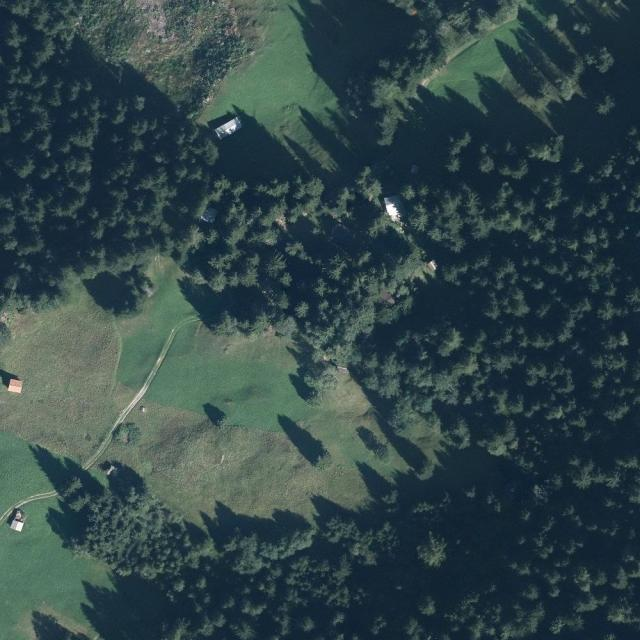greenland: (102, 384, 407, 544), (66, 470, 222, 613), (171, 321, 321, 440), (89, 256, 207, 393)
unmetalled_road: (75, 308, 201, 474)
